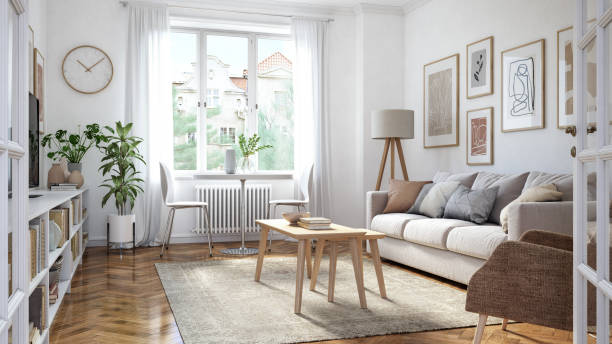TV: (29, 90, 41, 197)
chair: (464, 227, 597, 344)
dining table set: (156, 158, 316, 257)
floor lamp: (369, 105, 415, 191)
large plant: (98, 123, 147, 249)
small plant: (62, 123, 97, 170), (239, 129, 271, 173), (43, 131, 64, 187)
sofa: (363, 168, 606, 289)
table: (253, 216, 387, 315)
wall art: (500, 36, 547, 133), (558, 21, 600, 128), (420, 52, 460, 150), (463, 35, 495, 99), (464, 104, 496, 166)
